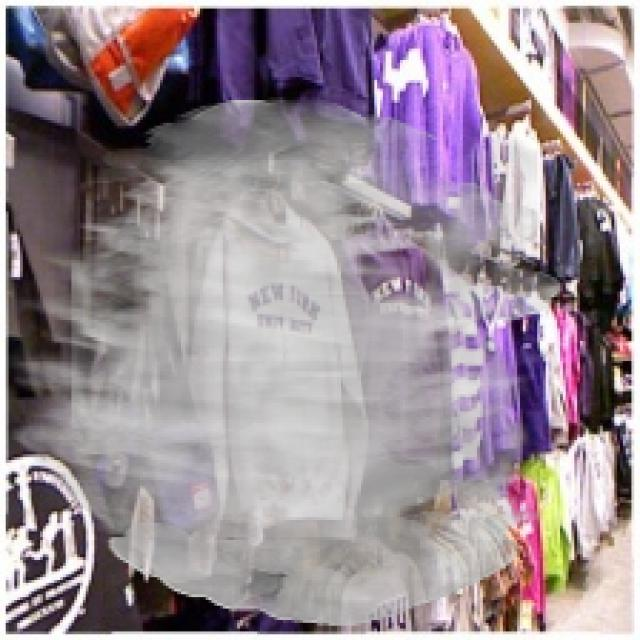smoke: (6, 97, 563, 626)
